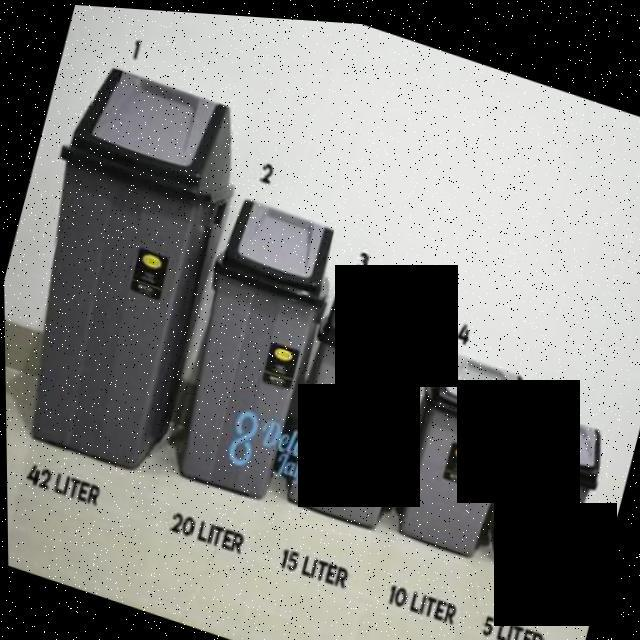bin: (0, 41, 258, 497), (155, 180, 350, 512), (265, 253, 449, 549), (382, 333, 535, 568), (477, 390, 617, 597)
